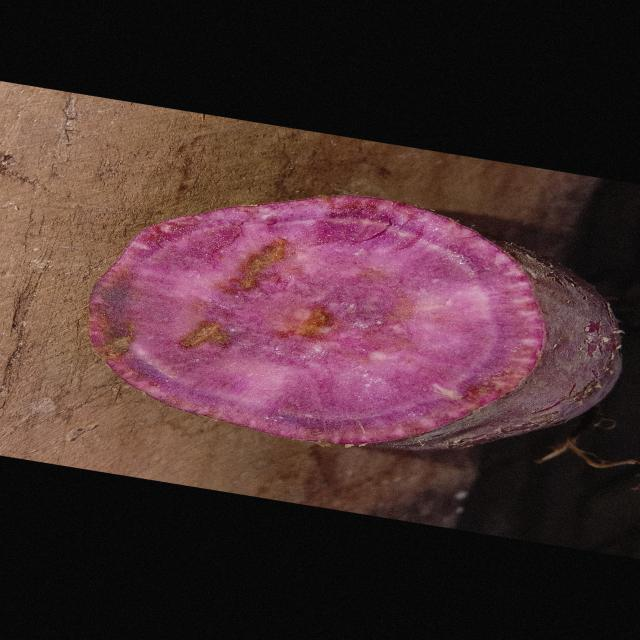Sick Sweet Potato_Tuber Rot: (91, 196, 544, 444)
